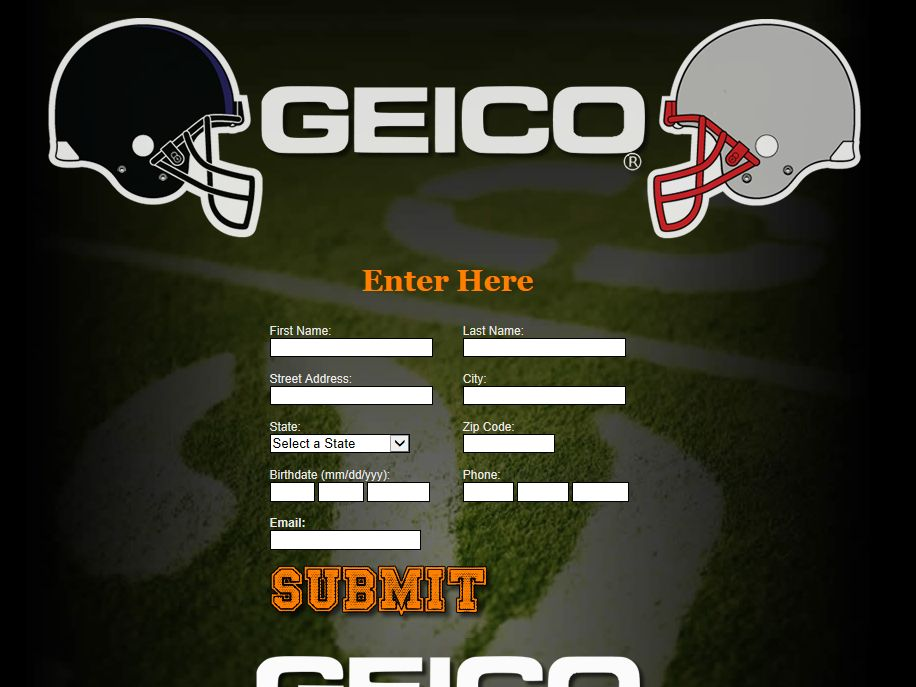Geico: (260, 72, 648, 154)
